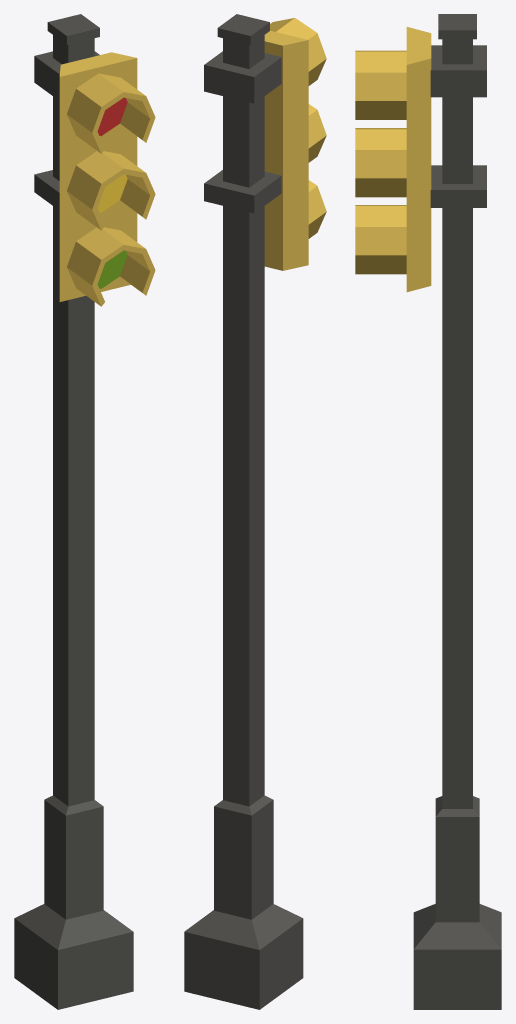
The model's file is Traffic_Light_1.fbx.
3 views of the same model, side by side, from view 1: azimuth 30°, elevation 25°; view 2: azimuth 150°, elevation 25°; view 3: azimuth 270°, elevation 25° (orthographic).
Parts seen in each view (by area): view 1: Traffic_Light_1; view 2: Traffic_Light_1; view 3: Traffic_Light_1.
Boxes of the visible parts, bbox=[...] form: Traffic_Light_1: bbox=[14, 14, 155, 1009]; Traffic_Light_1: bbox=[184, 14, 326, 1009]; Traffic_Light_1: bbox=[355, 14, 501, 1009].
Size of the model in its own units: 51.57 by 608 by 83.15.
Materials: 1 (1 with a texture image).
